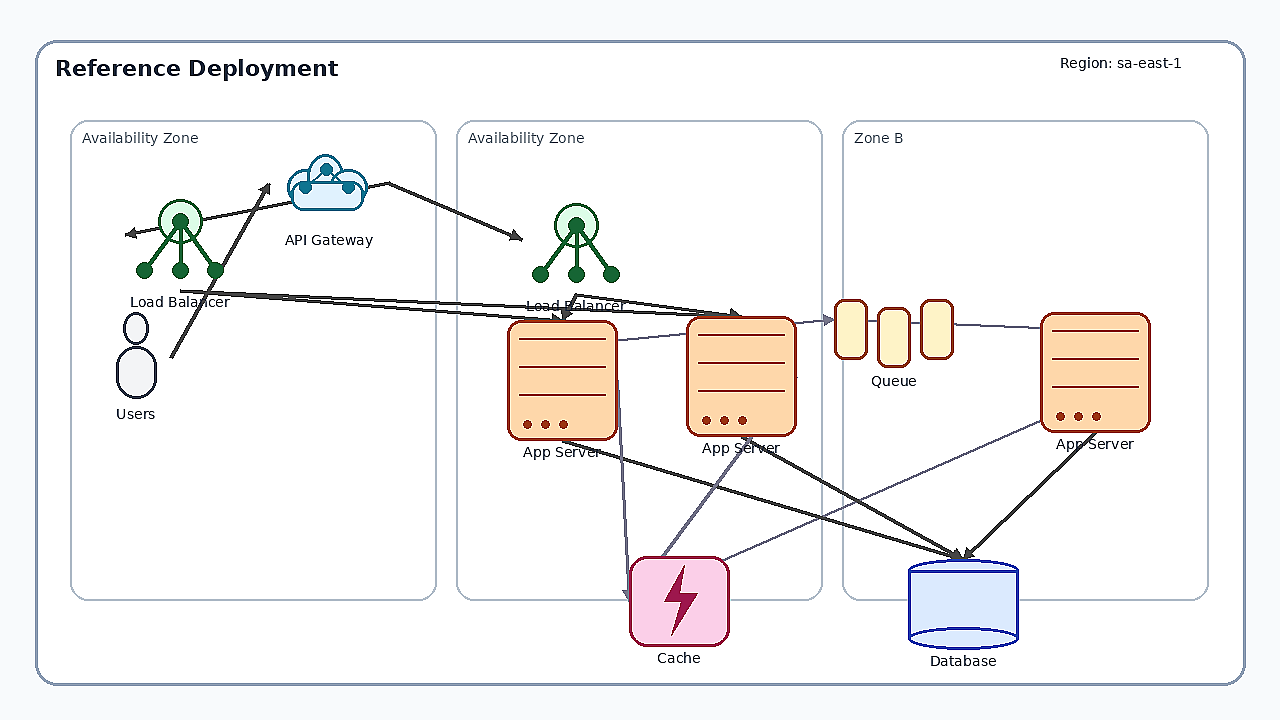API Gateway: (269, 138, 389, 228)
Application Server: (1040, 312, 1150, 432), (507, 320, 617, 440), (686, 316, 796, 436)
Cache: (629, 556, 729, 646)
Database: (908, 559, 1018, 649)
Load Balancer: (125, 180, 235, 290), (521, 184, 631, 294)
Message Queue: (834, 299, 954, 369)
User: (101, 312, 171, 402)
